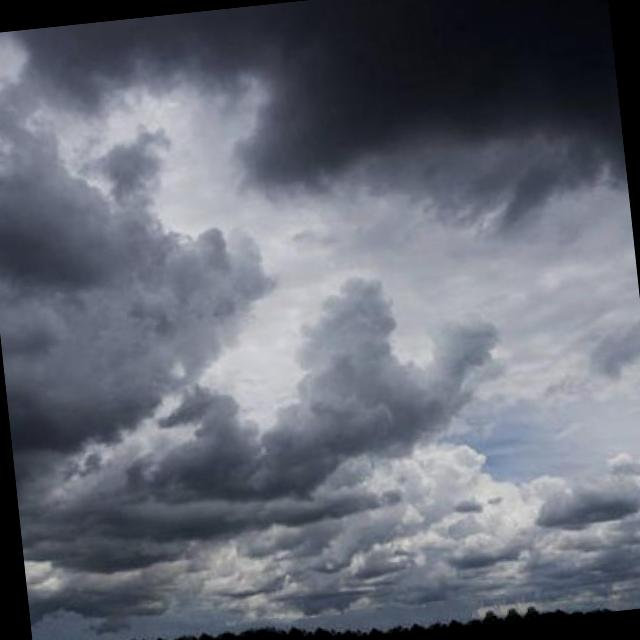nimbostratus: (238, 0, 628, 230), (0, 140, 260, 461), (160, 405, 344, 524)
